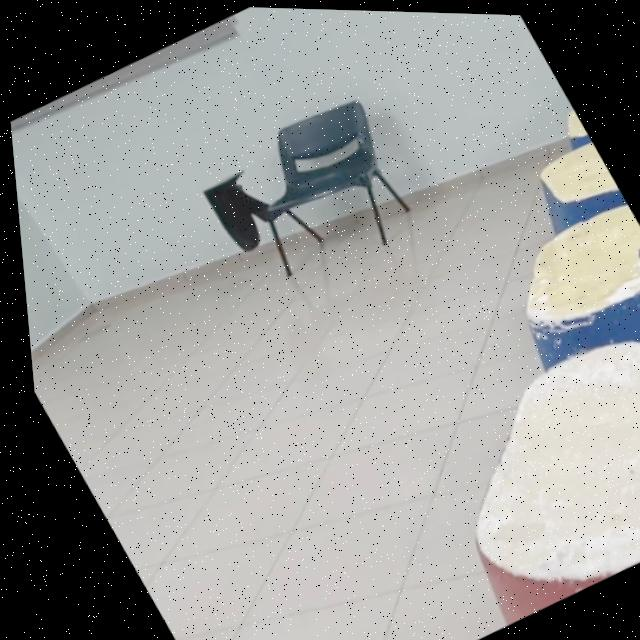sandalye: (253, 98, 404, 273)
